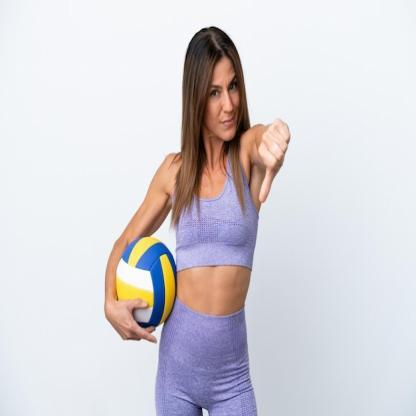thumb_down: (256, 112, 292, 205)
